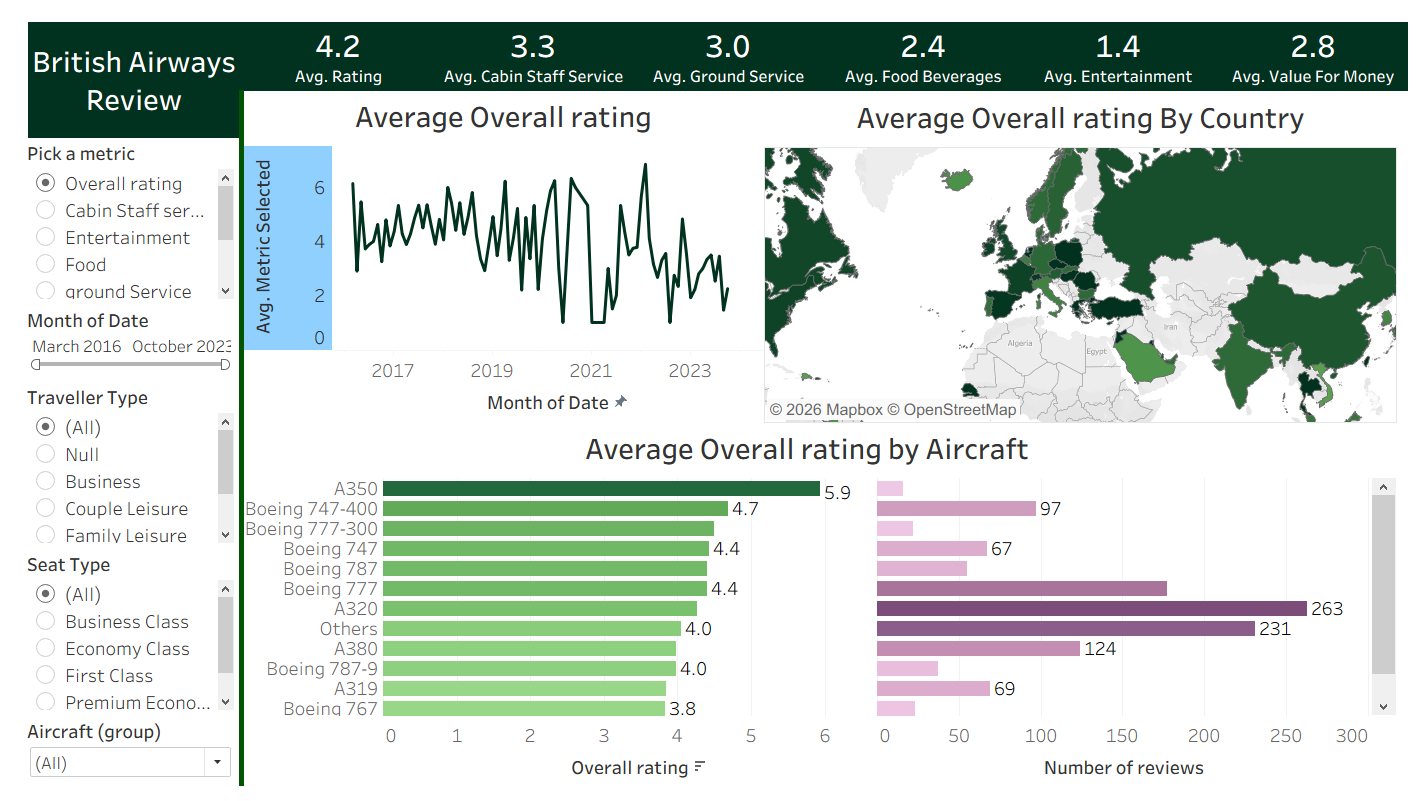

The page's visual inventory and layout, read from the dashboard file:
{"tool":"tableau","page":{"name":"Dashboard 1","canvas":[1366,768],"ordinal":0},"visuals":[{"type":"text","box":[0,4,212,116]},{"type":"blank","box":[211,72,5,696]},{"type":"worksheet","title":"Month","mark":"Automatic","rows":["Calculation_0548385386606592"],"cols":["date"],"box":[215,74,521,329]},{"type":"worksheet","title":"Map","mark":"Automatic","box":[736,75,633,330]},{"type":"worksheet","title":"Aircraft","mark":"Automatic","cols":["Calculation_0548385386606592","ba_reviews.csv_AE69E77CE113484BB43AD9E6CDE36BCA"],"box":[215,406,1154,362]}]}

Visuals, with their boxes in screenshot pixels (x1, y1, x2, y2), scaled from the page's 1366x768 canvas onto the 1427x801 screenshot:
text: [0,4,221,125]
blank: [220,75,226,800]
"Month" worksheet: [225,77,769,420]
"Map" worksheet: [769,78,1426,422]
"Aircraft" worksheet: [225,423,1426,800]
